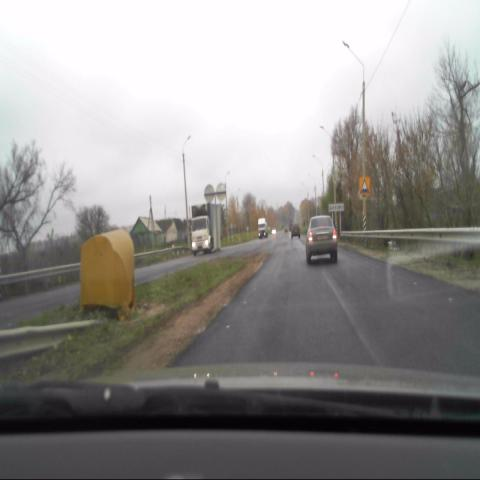1_16: (359, 176, 370, 195)
